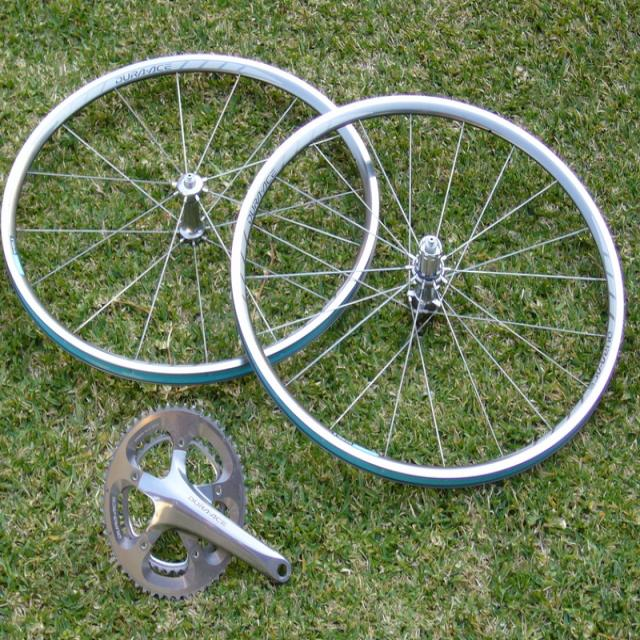wheel: (232, 96, 623, 486), (2, 54, 334, 383), (104, 407, 246, 598)
